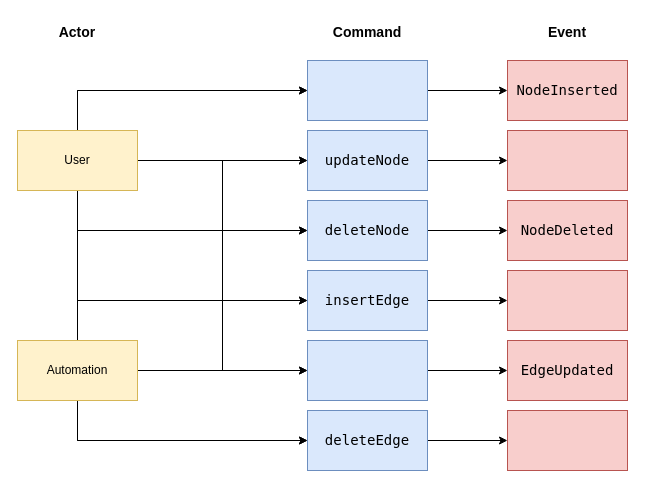
Some shapes in this 645 by 488 pixel diagram are drawn without their labels. Each missing label, with the box of its shape:
EdgeDeleted: (506, 410, 628, 470)
EdgeInserted: (506, 270, 628, 330)
insertNode: (306, 60, 428, 120)
NodeUpdated: (506, 130, 628, 190)
updateEdge: (306, 340, 428, 400)
